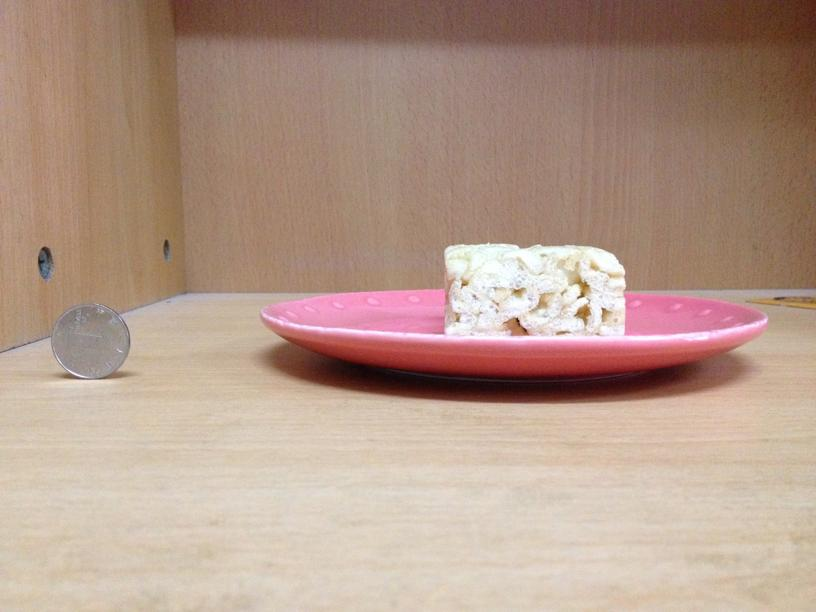coin: (53, 300, 127, 379)
sachima: (438, 241, 626, 337)
